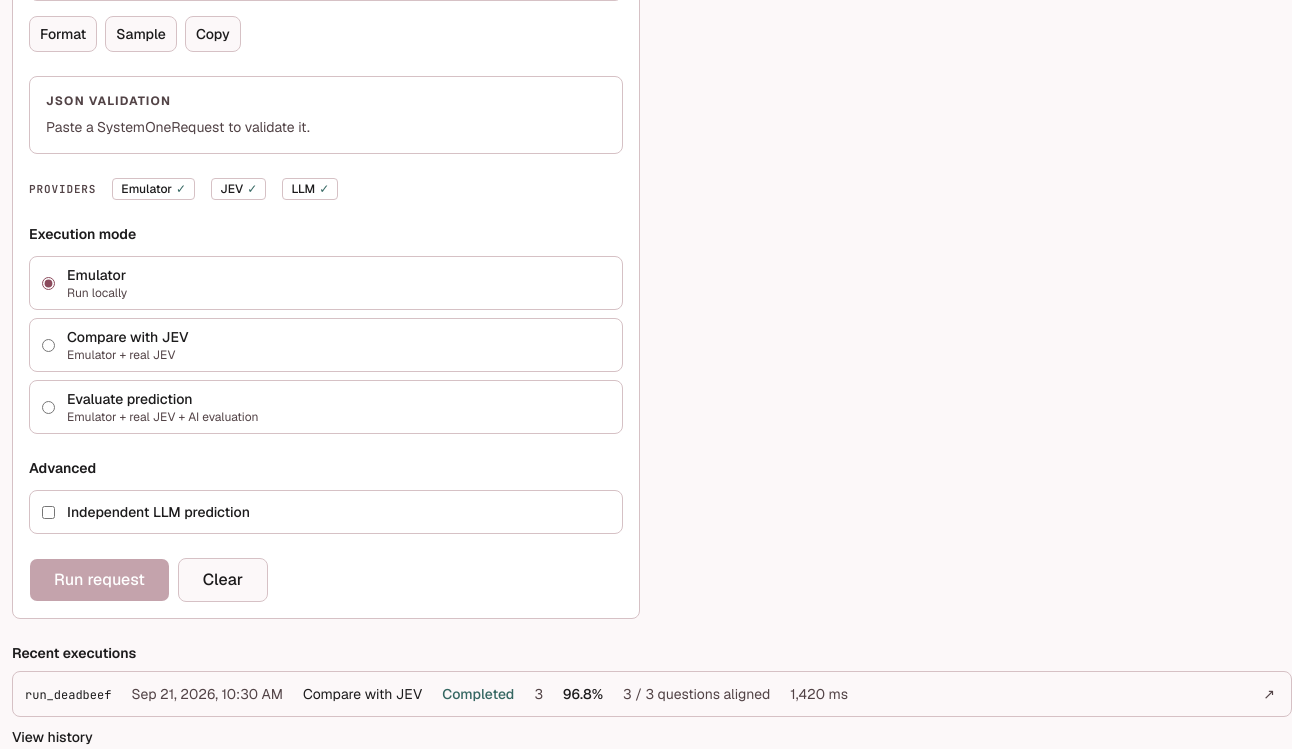
Test case: PrincipalView — P45 hydration landings set the session case (T1.2) › sets the session case when a recent click hydration lands
(page scrolled)
Click the button with aria-label "Load execution run_deadbeef — Compare with JEV, Completed" at (630, 694), box [13,674,1247,714]
(page scrolled)
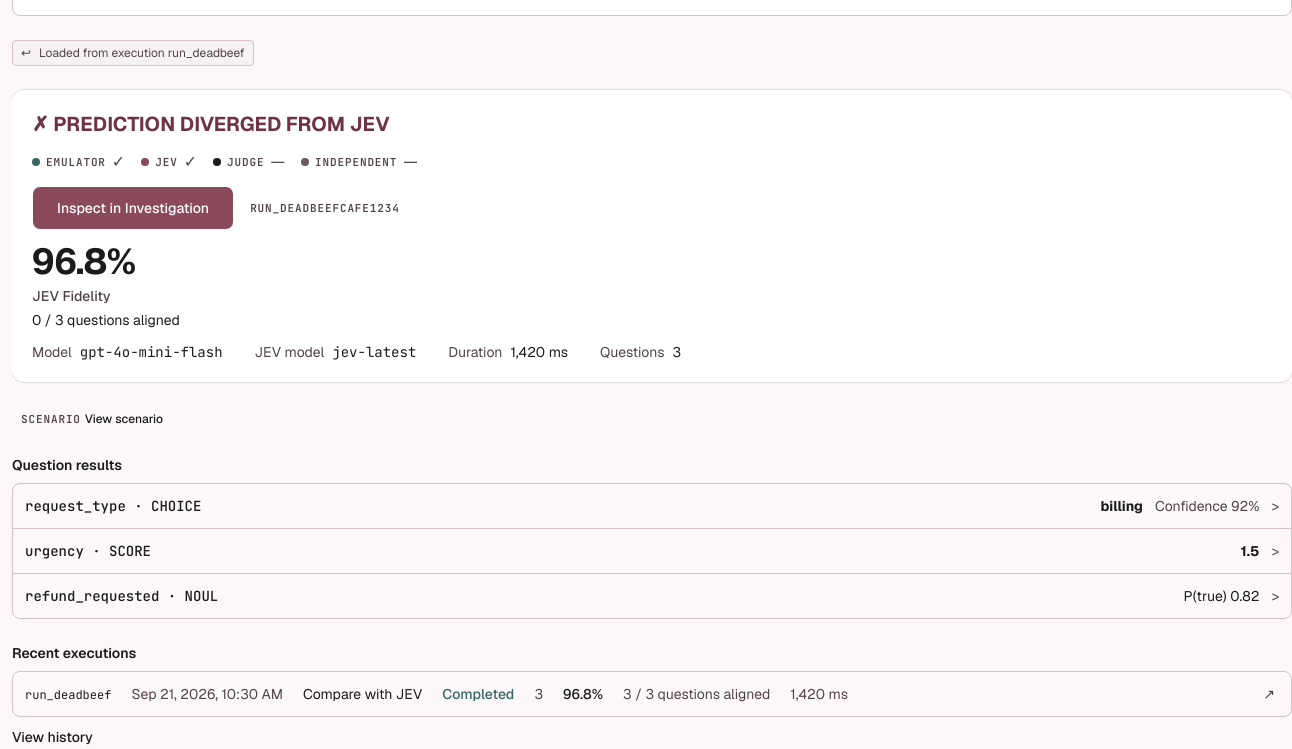
Result: the element with test id "loaded-from-origin" is shown at [12,40,254,66]
